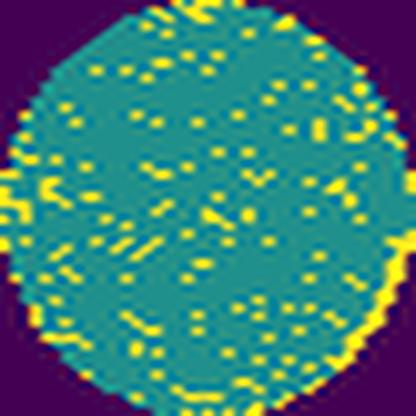Edge-Loc: (322, 228, 415, 379)
